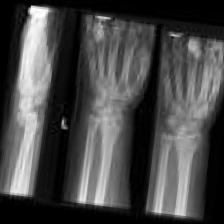impacted-fracture: (0, 5, 224, 218)
